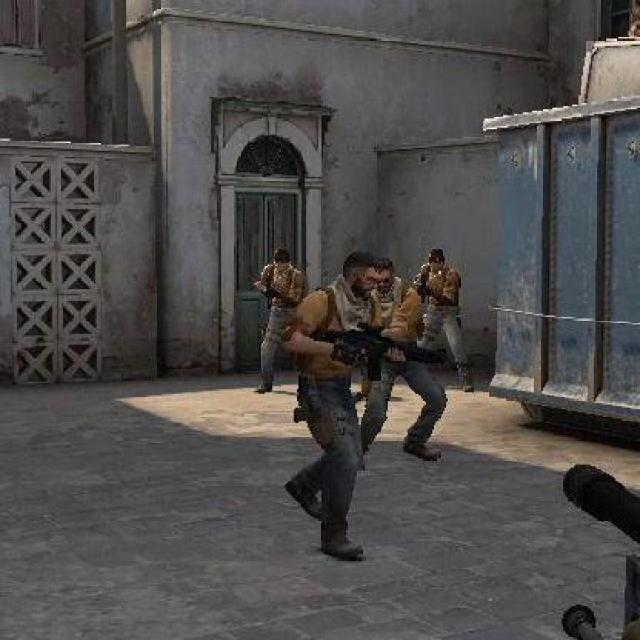Dead: (340, 254, 378, 294), (378, 260, 397, 288), (270, 245, 290, 268), (428, 245, 444, 268)
T-Body: (269, 255, 408, 554), (378, 255, 449, 463), (416, 244, 478, 390), (257, 244, 297, 374)
